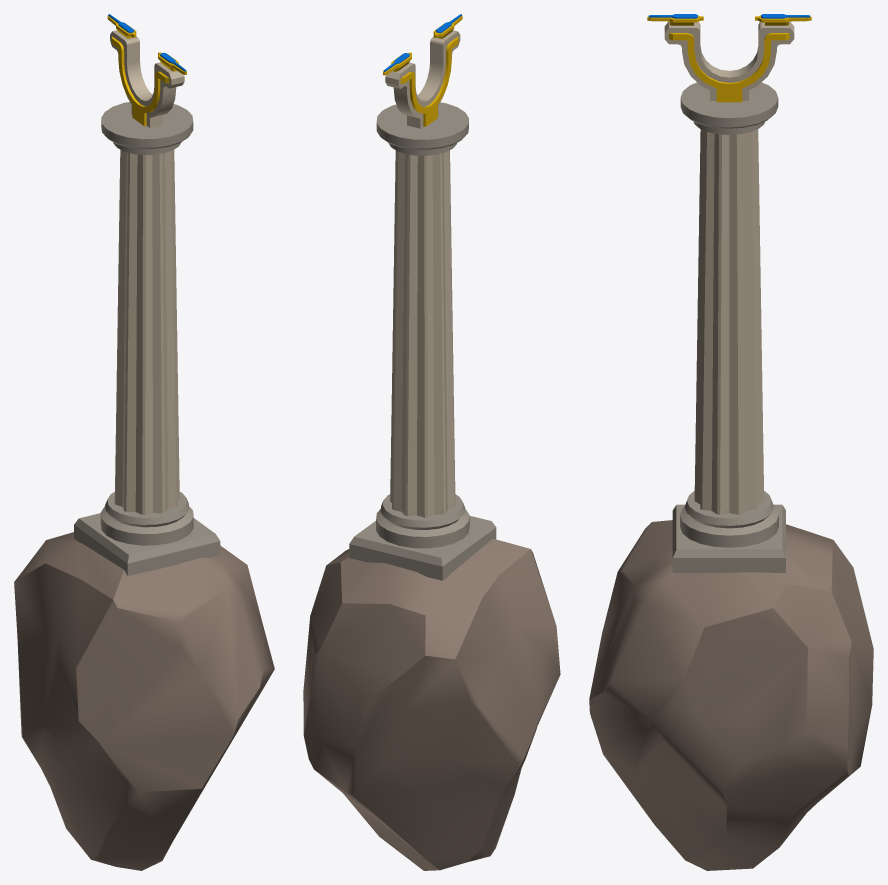
Rendered from mesh_column_01.fbx.
The picture shows the model from 3 angles, left to right: view 1: azimuth 30°, elevation 25°; view 2: azimuth 150°, elevation 25°; view 3: azimuth 270°, elevation 25°; orthographic projection. The views are drawn at different scales.
Visible parts, largest first — view 1: mesh_column_01; view 2: mesh_column_01; view 3: mesh_column_01.
Boxes of the visible parts, x1,y1,x2,y2 form: mesh_column_01: (14, 14, 274, 870); mesh_column_01: (303, 14, 560, 870); mesh_column_01: (589, 14, 873, 870).
Size of the model in its own units: 0.0713 by 0.2699 by 0.0806.
